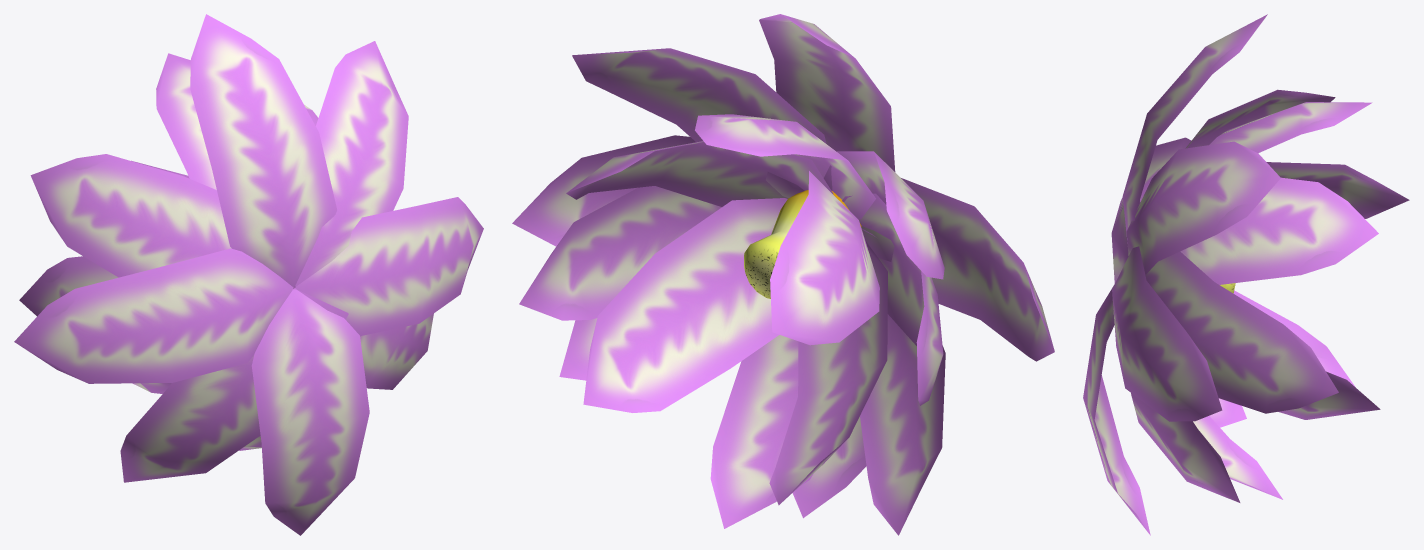
File: flor rosa.fbx
The picture shows the model from 3 angles, left to right: view 1: azimuth 30°, elevation 25°; view 2: azimuth 150°, elevation 25°; view 3: azimuth 270°, elevation 25°; orthographic projection. The views are drawn at different scales.
Parts seen in each view (by area): view 1: pPlane10, pPlane9, pPlane11, pPlane5, pPlane12, pPlane8, pPlane6, pPlane16, pPlane7, pPlane17; view 2: pPlane13, pPlane19, pPlane15, pPlane14, pPlane10, pPlane9, pPlane18, pPlane8, pPlane6, pPlane20, pPlane16, pPlane17 (+5 smaller); view 3: pPlane19, pPlane20, pPlane8, pPlane12, pPlane9, pPlane11, pPlane7, pPlane16, pPlane15, pPlane5, pPlane18, pPlane13 (+3 smaller).
Part boxes in pixels (box(x1,y1,x2,y2)): pPlane10: box(14, 248, 293, 383); pPlane9: box(190, 14, 336, 287); pPlane11: box(251, 289, 369, 535); pPlane5: box(30, 154, 231, 277); pPlane12: box(296, 197, 483, 335); pPlane8: box(295, 41, 408, 286); pPlane6: box(120, 355, 260, 482); pPlane16: box(156, 53, 216, 189); pPlane7: box(297, 290, 433, 389); pPlane17: box(19, 256, 296, 316); pPlane13: box(583, 198, 787, 412); pPlane19: box(519, 172, 804, 320); pPlane15: box(770, 171, 879, 345); pPlane14: box(769, 240, 887, 505); pPlane10: box(901, 178, 1054, 361); pPlane9: box(759, 14, 895, 171); pPlane18: box(710, 335, 813, 528); pPlane8: box(572, 48, 826, 143); pPlane6: box(860, 228, 945, 535); pPlane20: box(566, 141, 833, 206); pPlane16: box(695, 114, 875, 219); pPlane17: box(842, 193, 943, 405); pPlane19: box(1145, 251, 1338, 413); pPlane20: box(1180, 177, 1378, 284); pPlane8: box(1126, 141, 1280, 274); pPlane12: box(1112, 246, 1222, 421); pPlane9: box(1122, 14, 1267, 243); pPlane11: box(1083, 285, 1150, 535); pPlane7: box(1131, 393, 1240, 502); pPlane16: box(1209, 102, 1372, 153); pPlane15: box(1266, 162, 1409, 218); pPlane5: box(1185, 89, 1335, 148); pPlane18: box(1193, 416, 1282, 499); pPlane13: box(1278, 371, 1380, 419).
Bounding box in the file's own units: 17.99 × 17.86 × 10.51.
